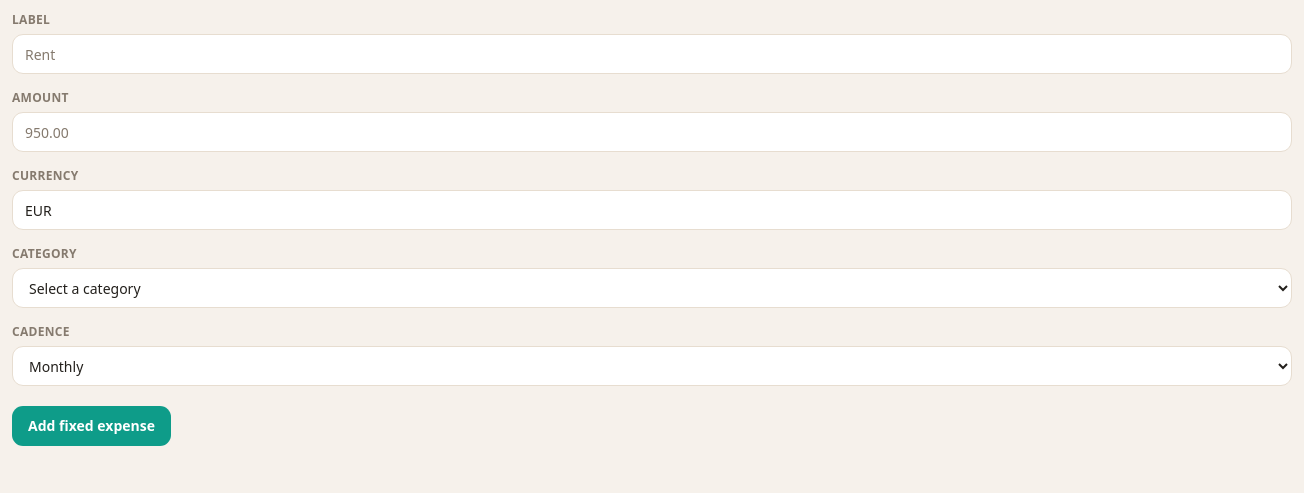
Test case: FixedExpenseForm › rejects an over-precise amount without submitting
The width and height of the screenshot is (1304, 493).
Type "Gym" into the field labelled "Label".
click(652, 54); type("Gym")  # box [12,34,1292,74]
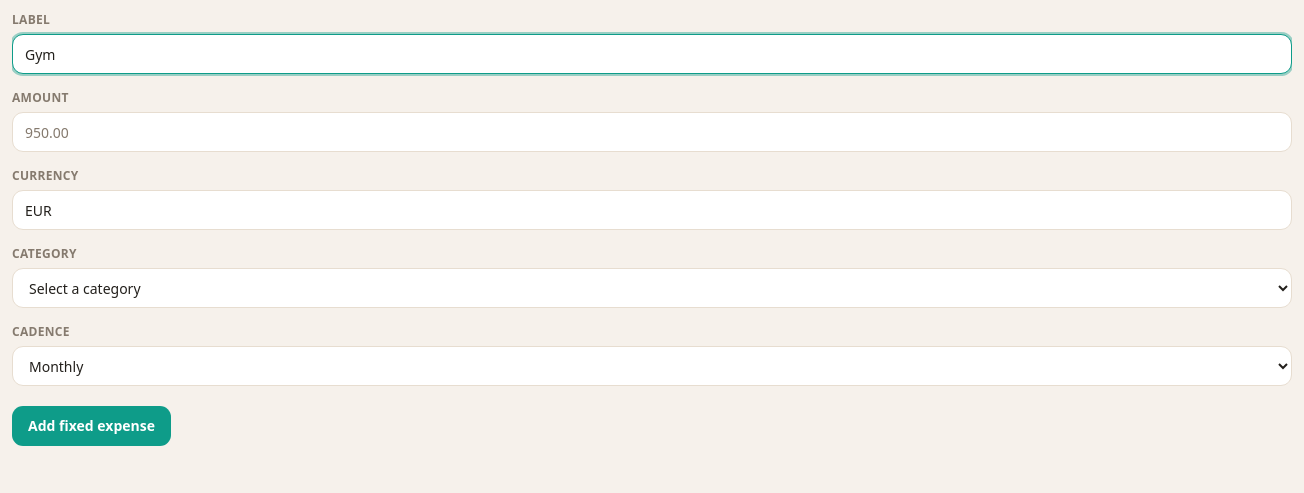
Type "29.999" into the field labelled "Amount".
click(652, 132); type("29.999")  # box [12,112,1292,152]
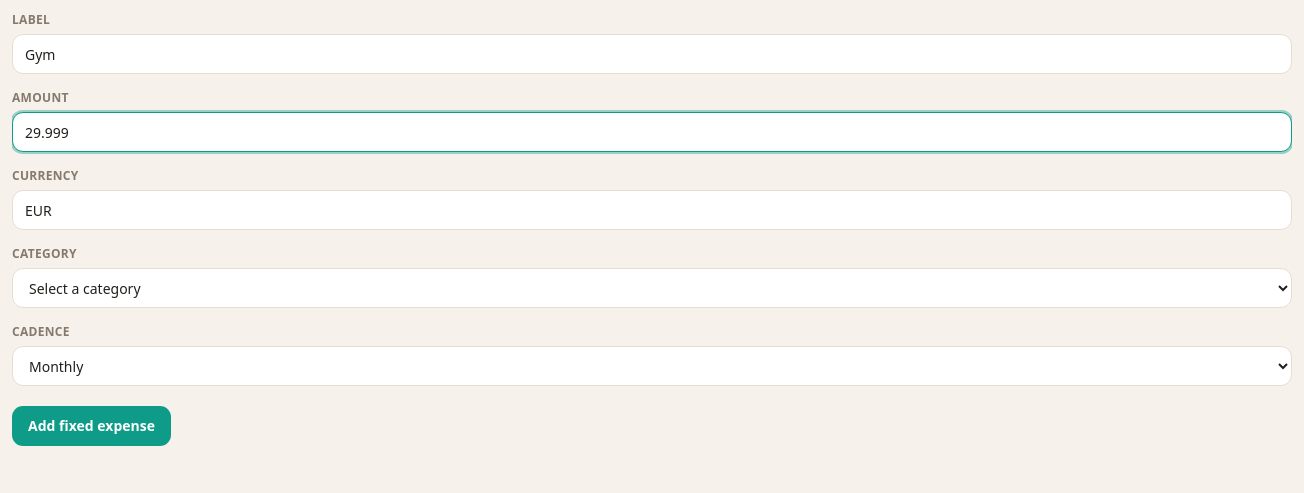
Select "Housing" in the dropdown labelled "Category" at (652, 288), box [12,268,1292,308]
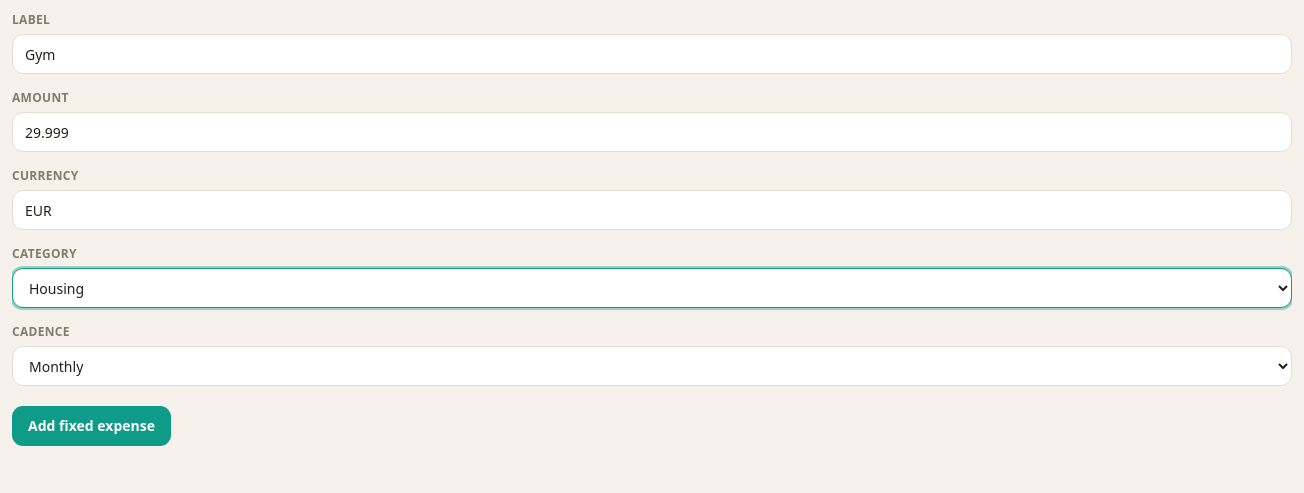
Click the button "Add fixed expense".
click(92, 426)  # box [12,406,171,446]
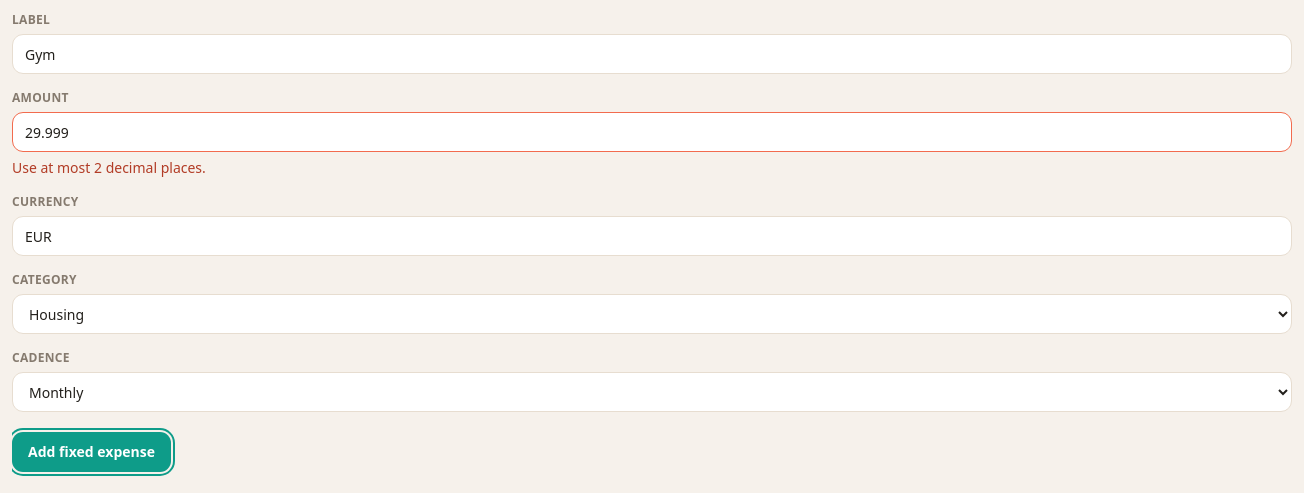
Expected: the text "Use at most 2 decimal places." is shown, [12,158,206,177]
